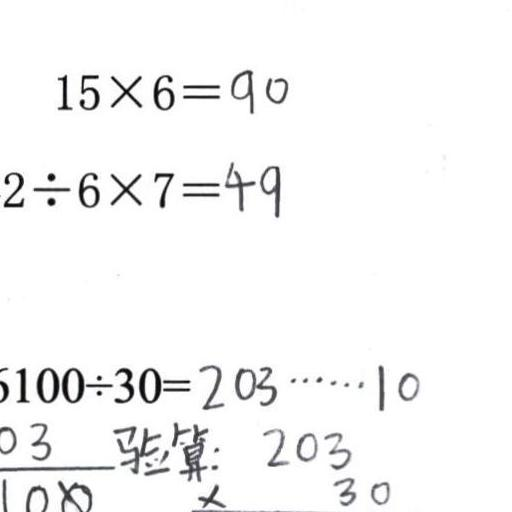ans: (194, 355, 423, 414), (221, 155, 282, 217), (227, 64, 289, 113)
